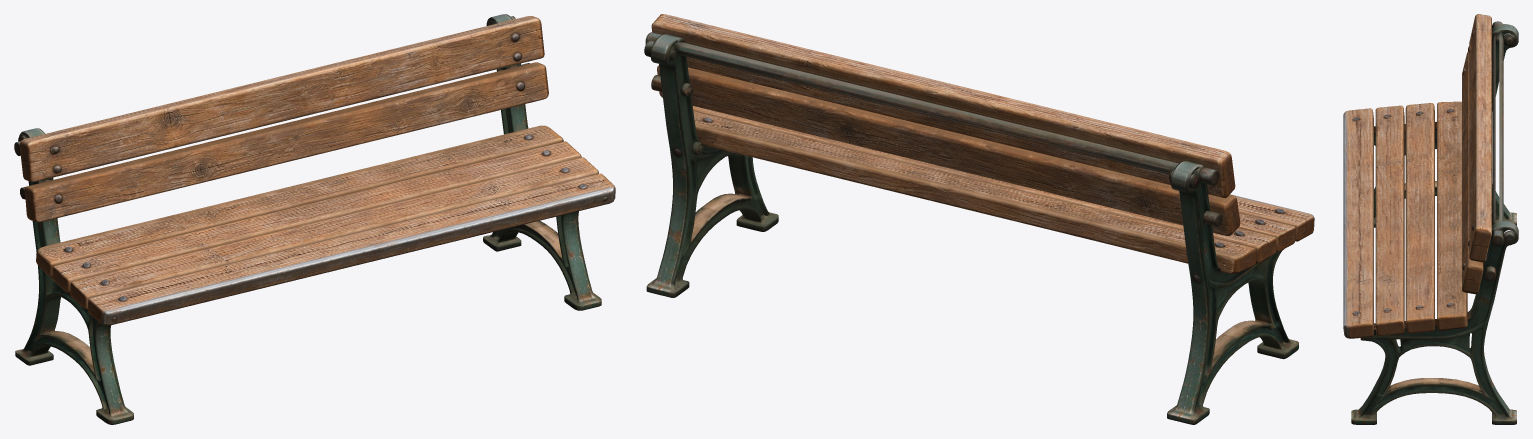
File: bench_armless.glb
3 views of the same model, side by side, from view 1: azimuth 30°, elevation 25°; view 2: azimuth 150°, elevation 25°; view 3: azimuth 270°, elevation 25° (orthographic). The views are drawn at different scales.
Visible parts, largest first — view 1: d28abd85_32a1_4299_b415_38f6af28bbd8; view 2: d28abd85_32a1_4299_b415_38f6af28bbd8; view 3: d28abd85_32a1_4299_b415_38f6af28bbd8.
Boxes of the visible parts, <box> form: d28abd85_32a1_4299_b415_38f6af28bbd8: <box>14,14,615,424</box>; d28abd85_32a1_4299_b415_38f6af28bbd8: <box>644,14,1314,424</box>; d28abd85_32a1_4299_b415_38f6af28bbd8: <box>1343,14,1518,424</box>.
Bounding box in the file's own units: 0.9995 × 0.4312 × 0.3423.
1 material, 1 textured.
